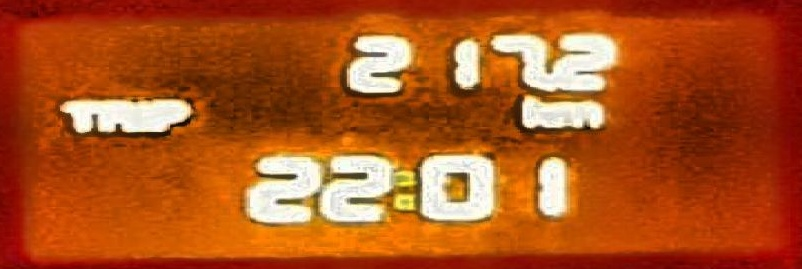-: (540, 72, 555, 92)
0: (415, 150, 495, 223)
1: (524, 149, 575, 222), (442, 33, 482, 93)
2: (240, 150, 318, 225), (317, 150, 391, 224), (337, 29, 413, 95), (551, 28, 620, 92)
7: (484, 32, 542, 91)
X: (551, 96, 604, 129), (151, 94, 193, 134), (58, 95, 98, 134), (515, 91, 551, 131), (98, 98, 136, 133), (391, 164, 415, 215), (137, 98, 151, 133)
